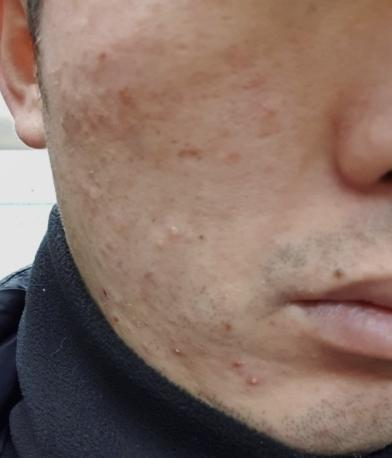acne_scars: (171, 136, 217, 185)
purulent: (243, 368, 280, 412)
whitehead: (147, 218, 191, 268), (66, 85, 93, 113), (80, 127, 108, 151)
